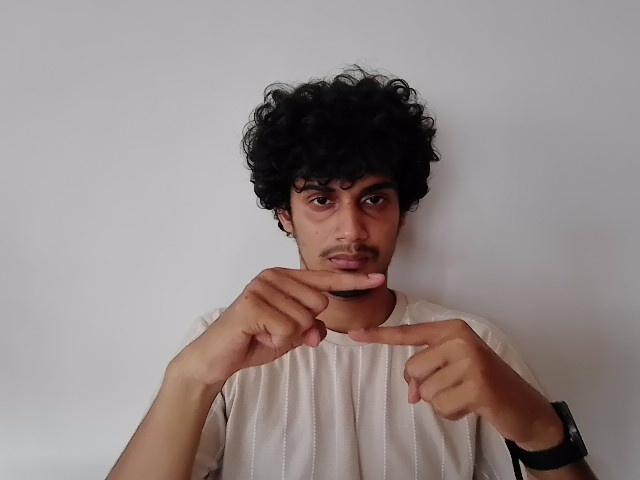about: (170, 267, 524, 420)
